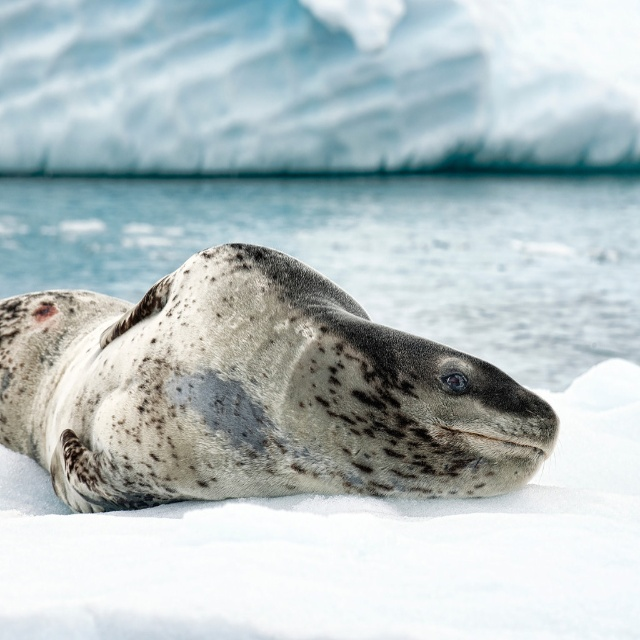Harbor seal: (0, 241, 559, 515)
